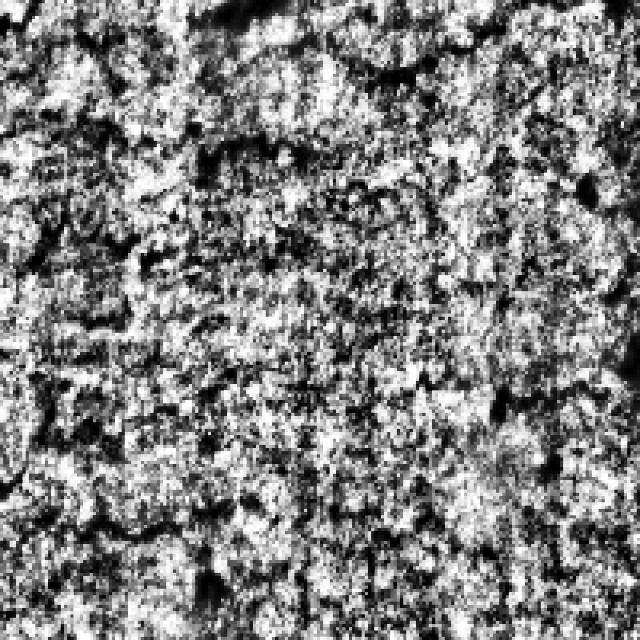Pitted_Surface: (25, 474, 592, 630), (0, 83, 320, 285), (35, 0, 509, 93)
